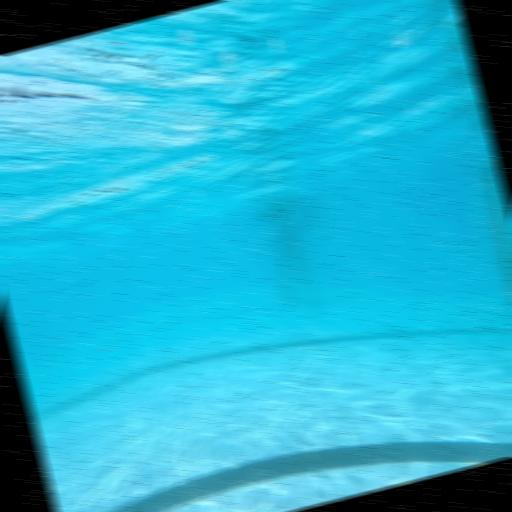pole_gate: (469, 164, 512, 391)
